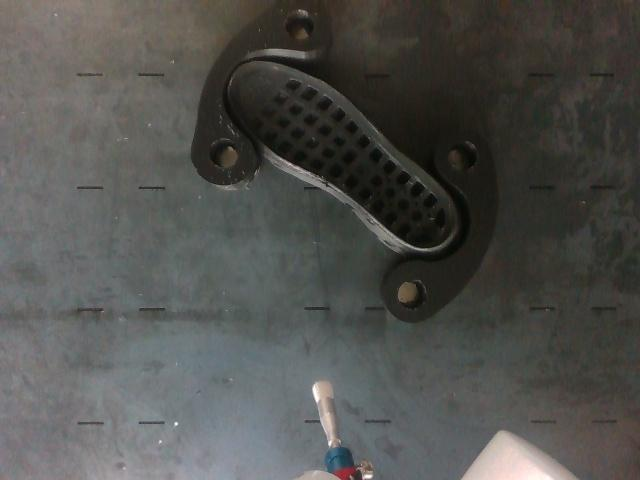shoes: (230, 63, 456, 251)
